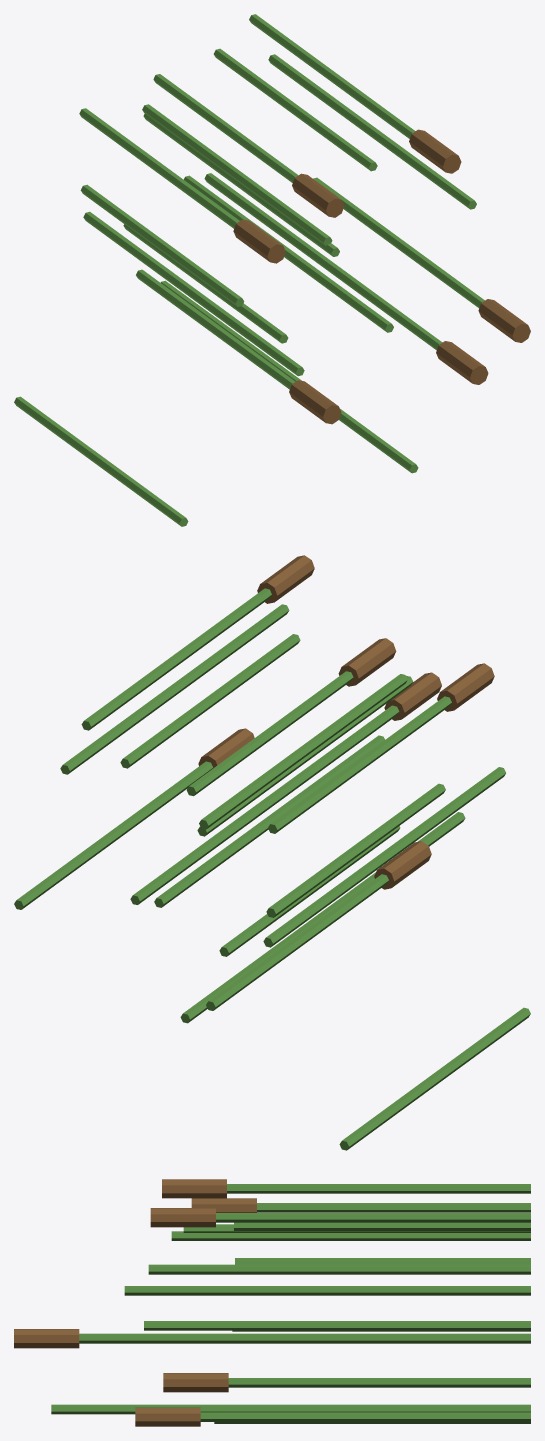
The model's file is reeds_cluster.glb.
The picture shows the model from 3 angles, top to bottom: view 1: azimuth 30°, elevation 25°; view 2: azimuth 150°, elevation 25°; view 3: azimuth 270°, elevation 25°; orthographic projection. The views are drawn at different scales.
Parts seen in each view (by area): view 1: world; view 2: world; view 3: world.
Boxes of the visible parts, box(x1,y1,x2,y2) form: world: box(14, 14, 530, 526); world: box(14, 555, 530, 1150); world: box(14, 1179, 530, 1426).
Size of the model in its own units: 0.8402 by 0.8771 by 1.27.
